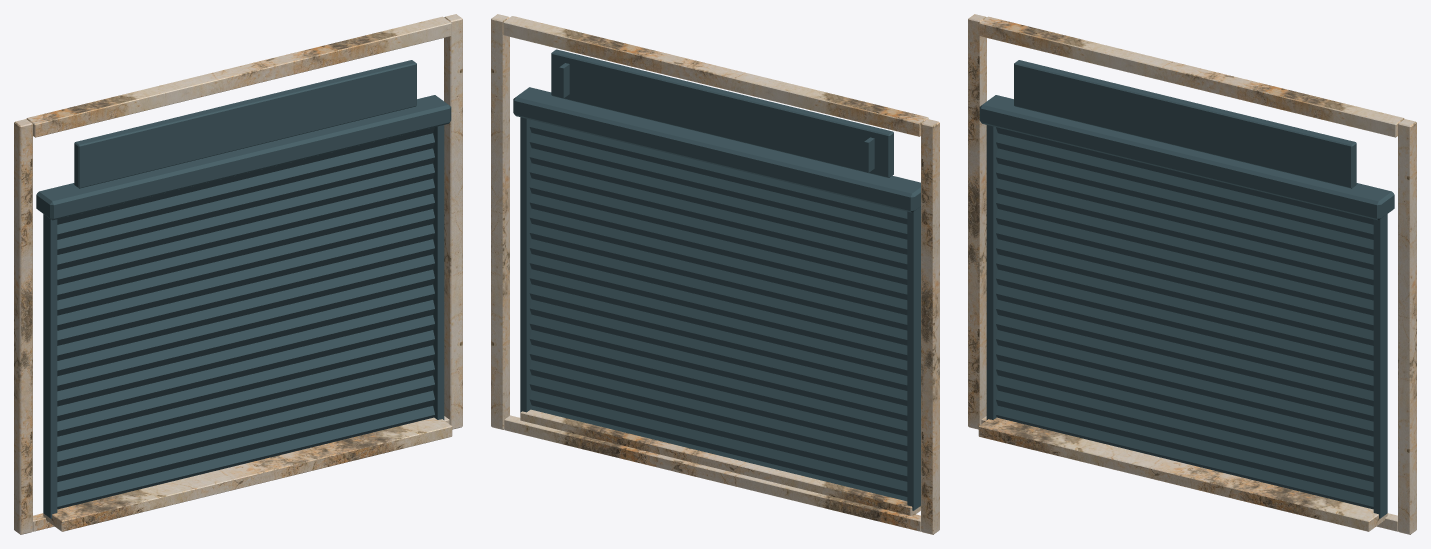
The model's file is facade_retail_shutter_ground.glb.
3 views of the same model, side by side, from view 1: azimuth 30°, elevation 25°; view 2: azimuth 150°, elevation 25°; view 3: azimuth 330°, elevation 25° (orthographic).
Visible parts, largest first — view 1: facade_retail_shutter_ground__VVK_painted_steel, facade_retail_shutter_ground__VVK_concrete_CC0; view 2: facade_retail_shutter_ground__VVK_painted_steel, facade_retail_shutter_ground__VVK_concrete_CC0; view 3: facade_retail_shutter_ground__VVK_painted_steel, facade_retail_shutter_ground__VVK_concrete_CC0.
Boxes of the visible parts, x1,y1,x2,y2 form: facade_retail_shutter_ground__VVK_painted_steel: [36, 60, 451, 518]; facade_retail_shutter_ground__VVK_concrete_CC0: [14, 14, 462, 534]; facade_retail_shutter_ground__VVK_painted_steel: [513, 49, 920, 510]; facade_retail_shutter_ground__VVK_concrete_CC0: [491, 14, 939, 534]; facade_retail_shutter_ground__VVK_painted_steel: [979, 60, 1394, 518]; facade_retail_shutter_ground__VVK_concrete_CC0: [968, 14, 1416, 534].
Size of the model in its own units: 3.4 by 3 by 0.303.
Materials: 2 (1 with a texture image).
